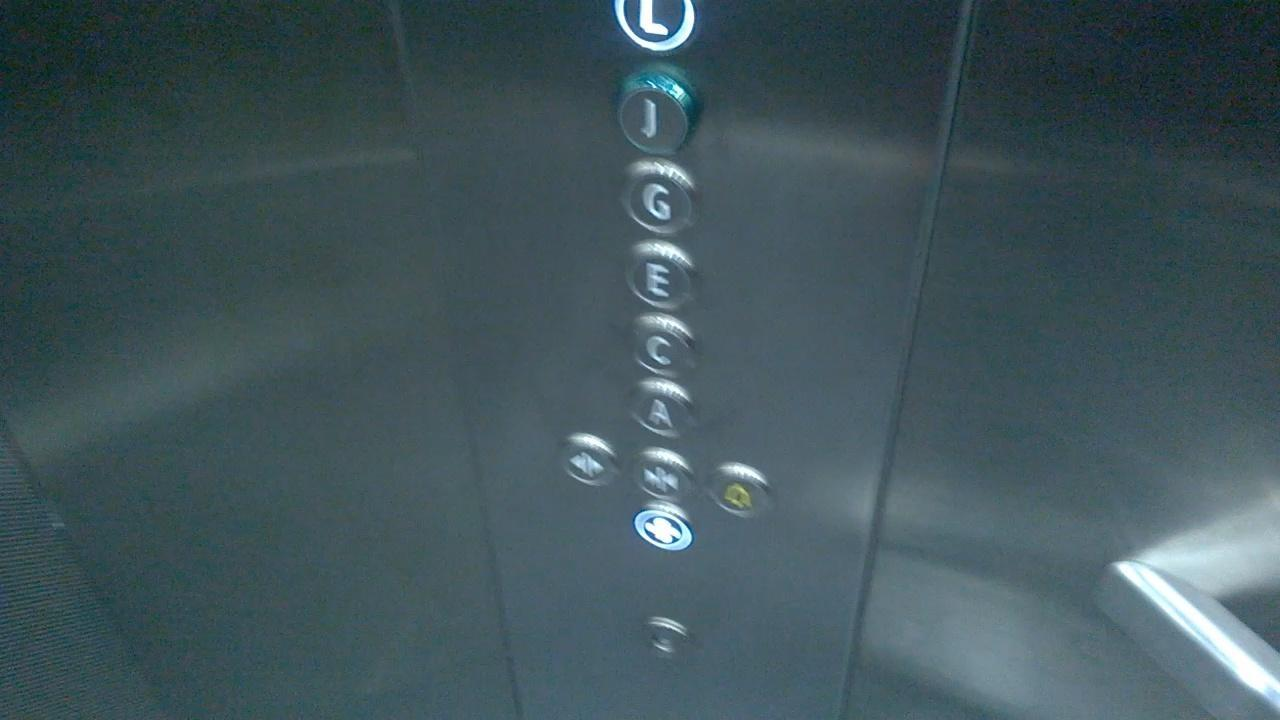G: (617, 158, 700, 234)
alarm: (707, 463, 772, 520)
close: (632, 444, 691, 504)
open: (562, 430, 616, 494)
unknown: (612, 67, 700, 158), (622, 235, 700, 312), (623, 308, 703, 377), (622, 372, 704, 437), (631, 501, 695, 555)
